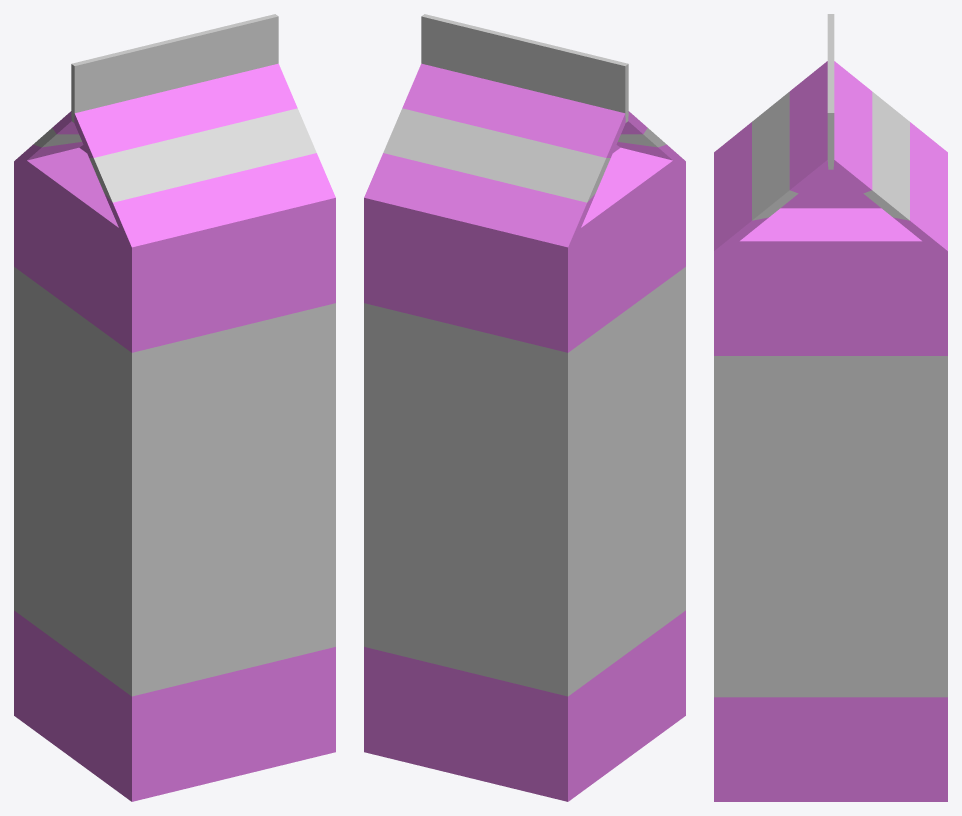
The model's file is Milk Carton Small.fbx.
3 renders of one model, left to right at view 1: azimuth 30°, elevation 25°; view 2: azimuth 150°, elevation 25°; view 3: azimuth 270°, elevation 25°, orthographic.
Parts seen in each view (by area): view 1: Milk Carton Small; view 2: Milk Carton Small; view 3: Milk Carton Small.
Part boxes in pixels (x1,y1,x2,y2): Milk Carton Small: (14,14,335,801); Milk Carton Small: (364,14,685,801); Milk Carton Small: (714,14,947,801).
Size of the model in its own units: 13.46 by 43.73 by 13.46.
Materials: 1 (1 with a texture image).
